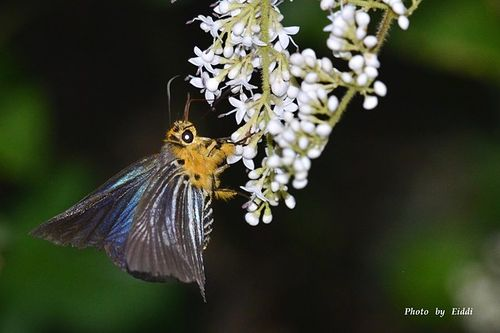Hesperiidae: (28, 71, 243, 303)
